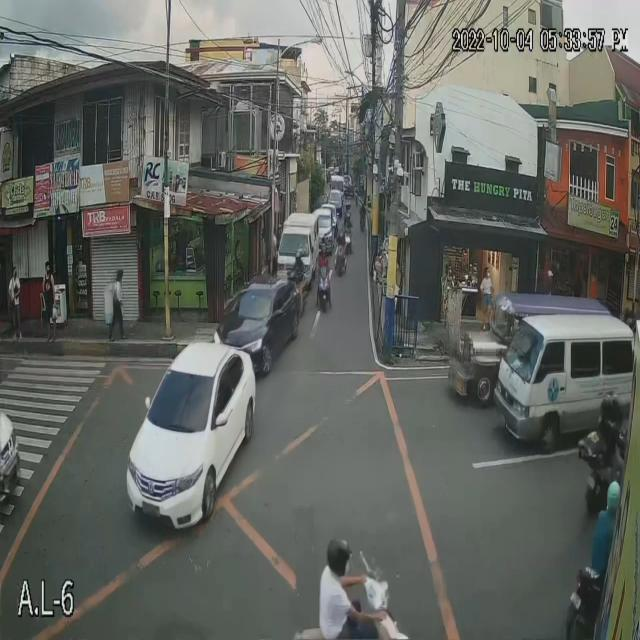Full-Faced: (322, 533, 356, 576)
Invalid: (602, 478, 618, 512)
